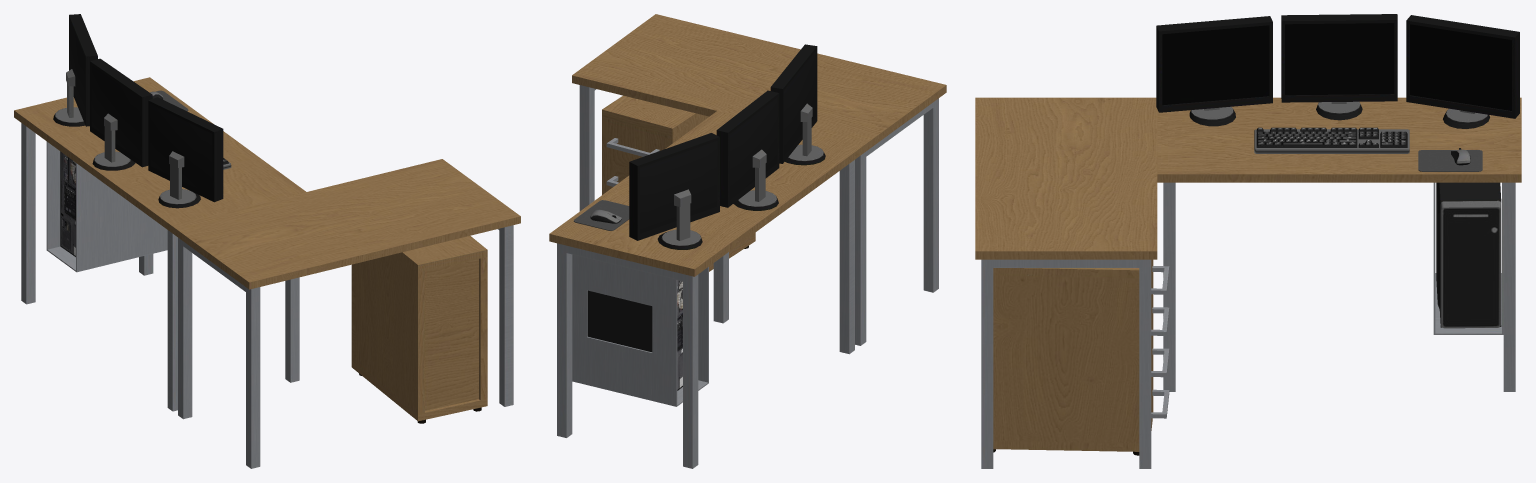
The model's file is terminal-desk.glb.
3 renders of one model, left to right at view 1: azimuth 30°, elevation 25°; view 2: azimuth 150°, elevation 25°; view 3: azimuth 270°, elevation 25°, orthographic. The views are drawn at different scales.
Parts seen in each view (by area): view 1: main_terminal; view 2: main_terminal; view 3: main_terminal.
Part boxes in pixels (box(x1,y1,x2,y2)): main_terminal: box(14, 14, 520, 468); main_terminal: box(549, 14, 946, 468); main_terminal: box(975, 14, 1521, 468).
Size of the model in its own units: 313 by 300 by 470.
Materials: 1 (1 with a texture image).
